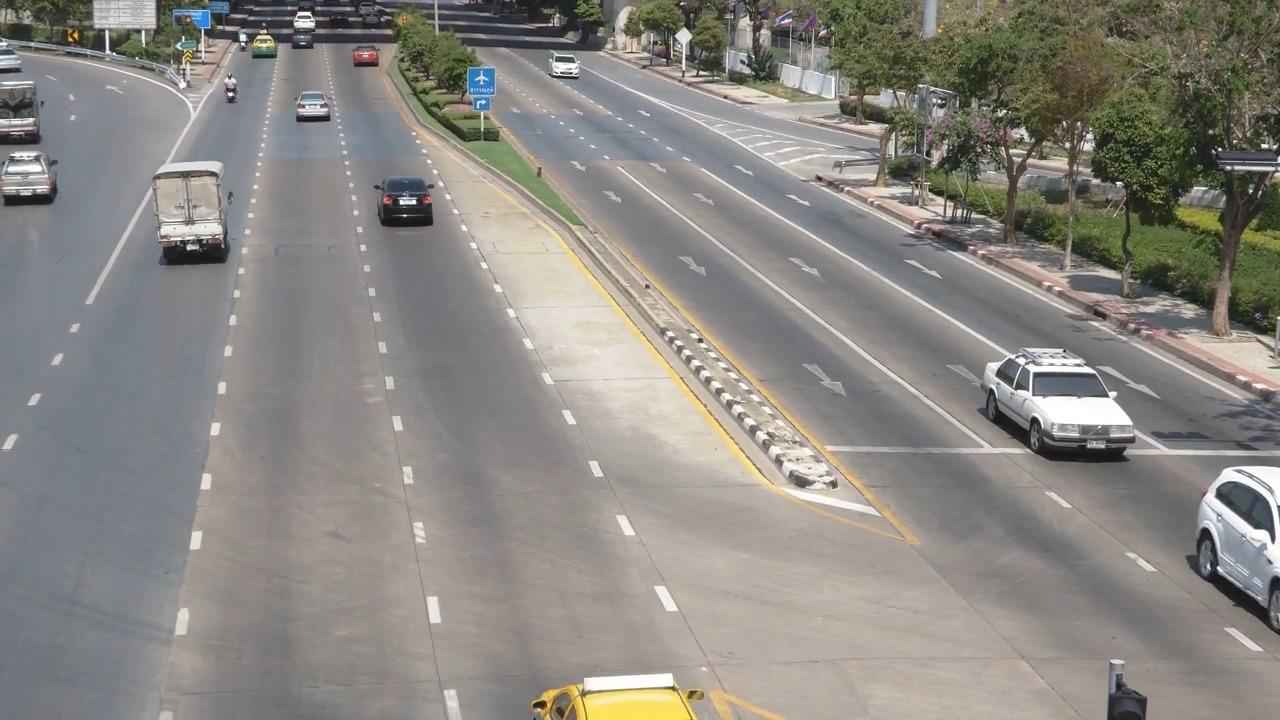CAR: (983, 340, 1142, 468), (1172, 456, 1280, 633), (142, 148, 240, 292), (366, 169, 445, 237), (2, 147, 58, 214), (0, 85, 49, 155), (284, 85, 341, 134), (346, 41, 388, 80), (540, 48, 581, 85), (245, 33, 282, 70), (322, 9, 360, 45), (285, 30, 325, 57), (289, 9, 323, 37)
MOTOR: (220, 65, 246, 110)
